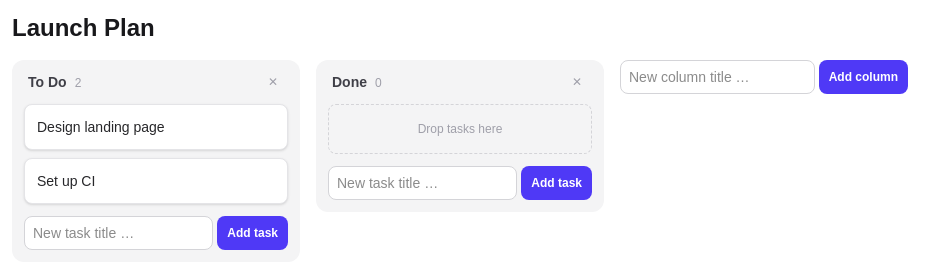
Test: KanbanBoard › creates a task via the API and renders it optimistically
Step 1. Type "Write docs" into the field labelled "New task title …" below "Drop tasks here" → [423, 183], box top-left (328, 166), bottom-right (517, 200)
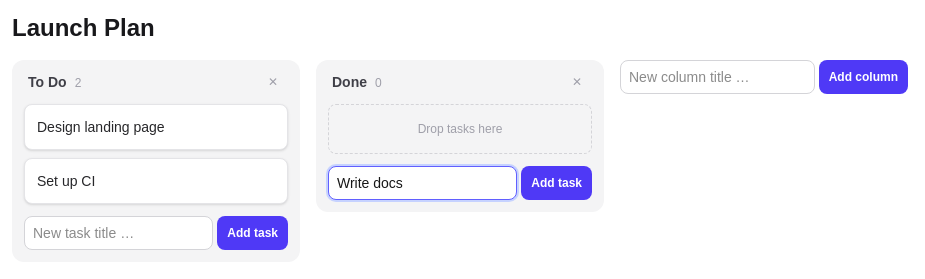
Step 2. Click the button "Add task" below "Drop tasks here" → [557, 183], box top-left (521, 166), bottom-right (592, 200)
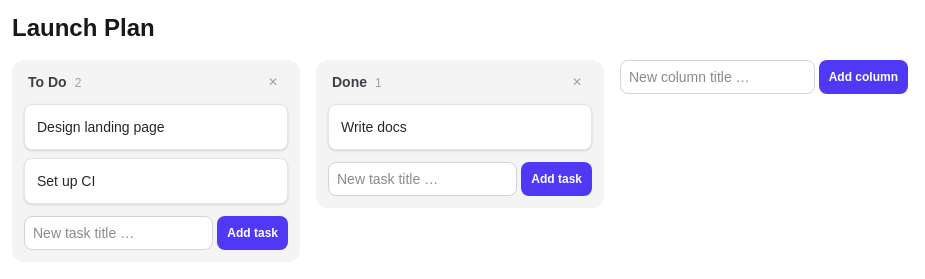
expect the element named "Column Done" is shown: met, box top-left (316, 60), bottom-right (604, 208)
expect the heading "Write docs" is shown: met, box top-left (341, 117), bottom-right (407, 137)
